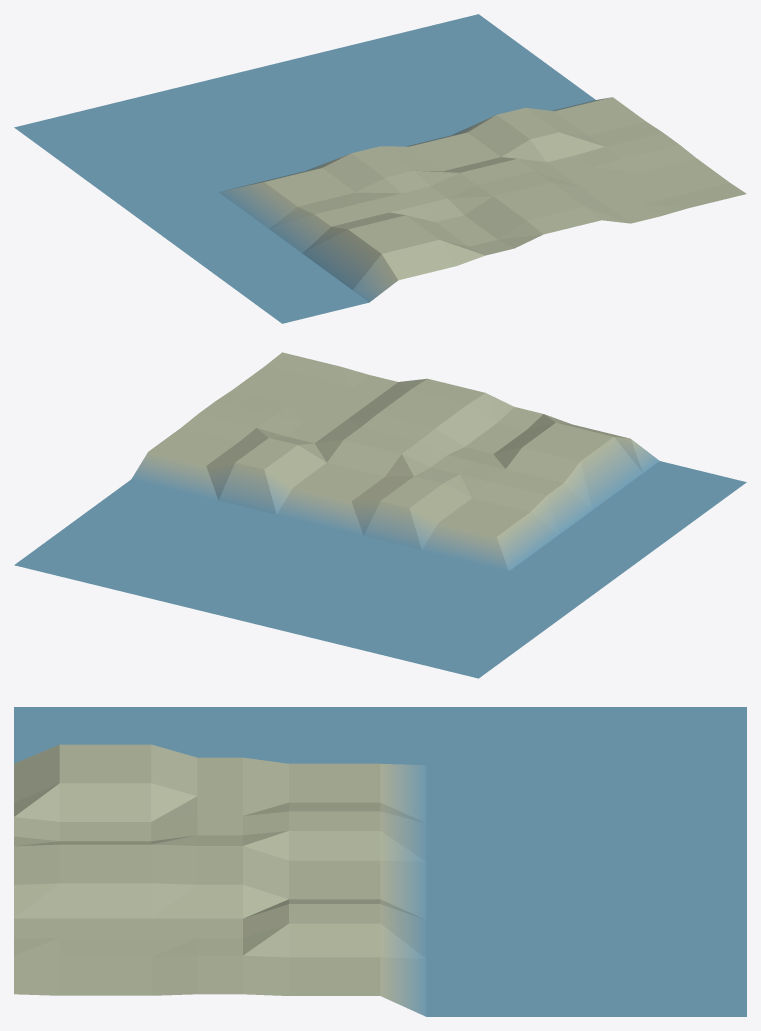
3 views of the same model, one above another, from view 1: azimuth 30°, elevation 25°; view 2: azimuth 150°, elevation 25°; view 3: azimuth 270°, elevation 25° (orthographic). The views are drawn at different scales.
Bounding box in the file's own units: 32 × 1.93 × 32.
